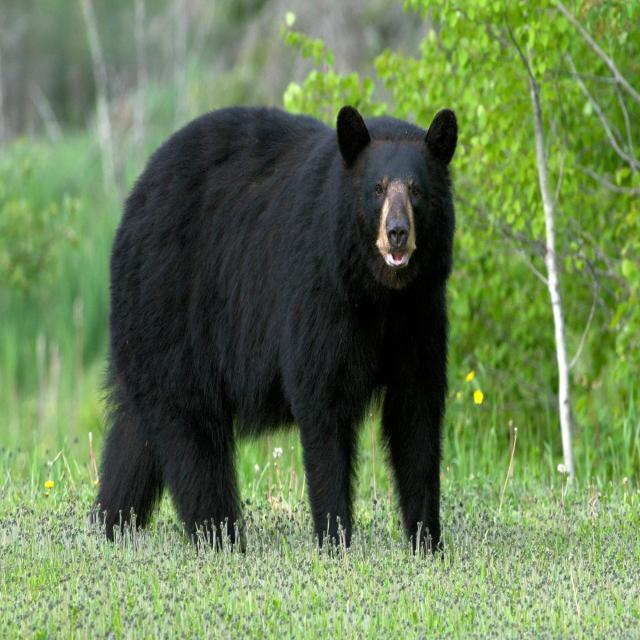bear: (18, 82, 540, 623)
